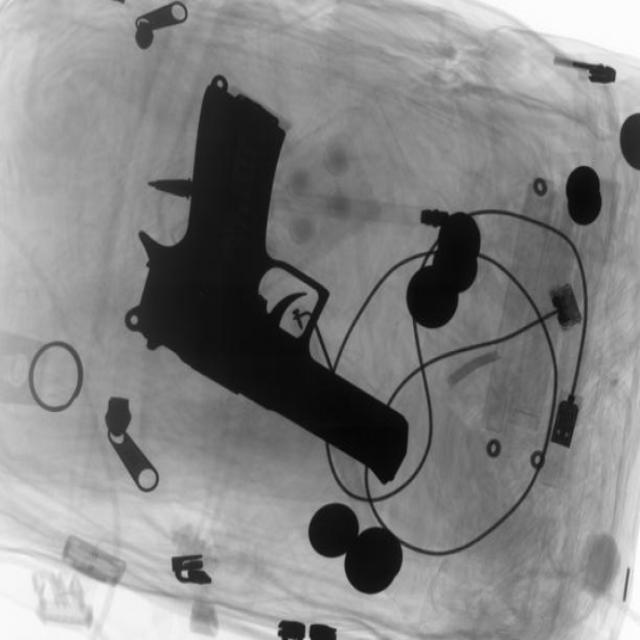GUN: (130, 110, 431, 492)
